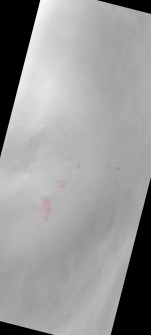lipstick: (35, 193, 59, 225), (55, 176, 72, 192)
